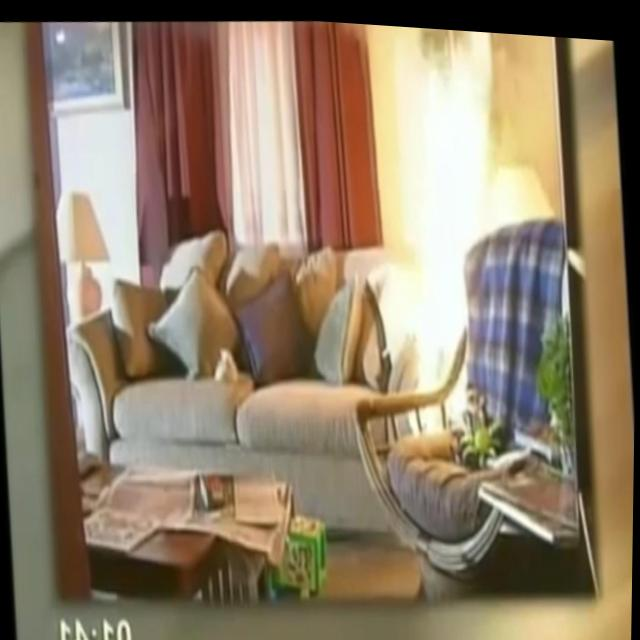fire: (376, 20, 521, 431)
